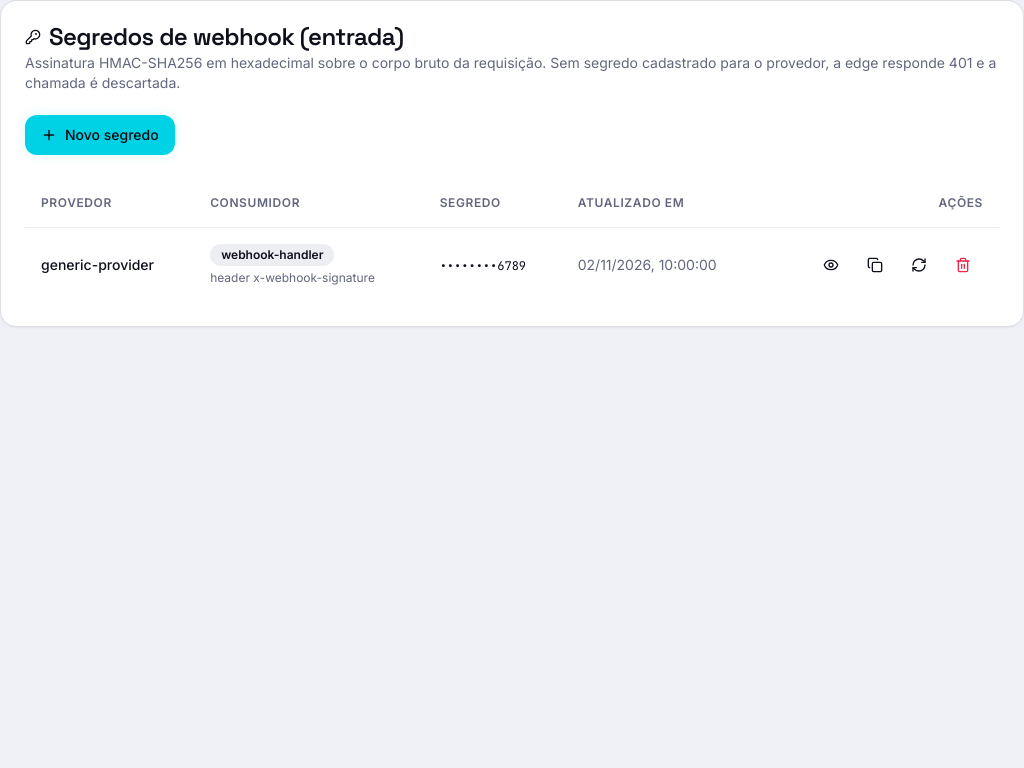
it: WebhookSecretsCard › exclui somente depois da confirmacao
Later steps or results of the test are not shown.
What coordinates should you click on to do the following:
click the button named "Excluir segredo de generic-provider"
I would click on:
 (963, 264)
Its box is x1=943 y1=244 x2=983 y2=284.
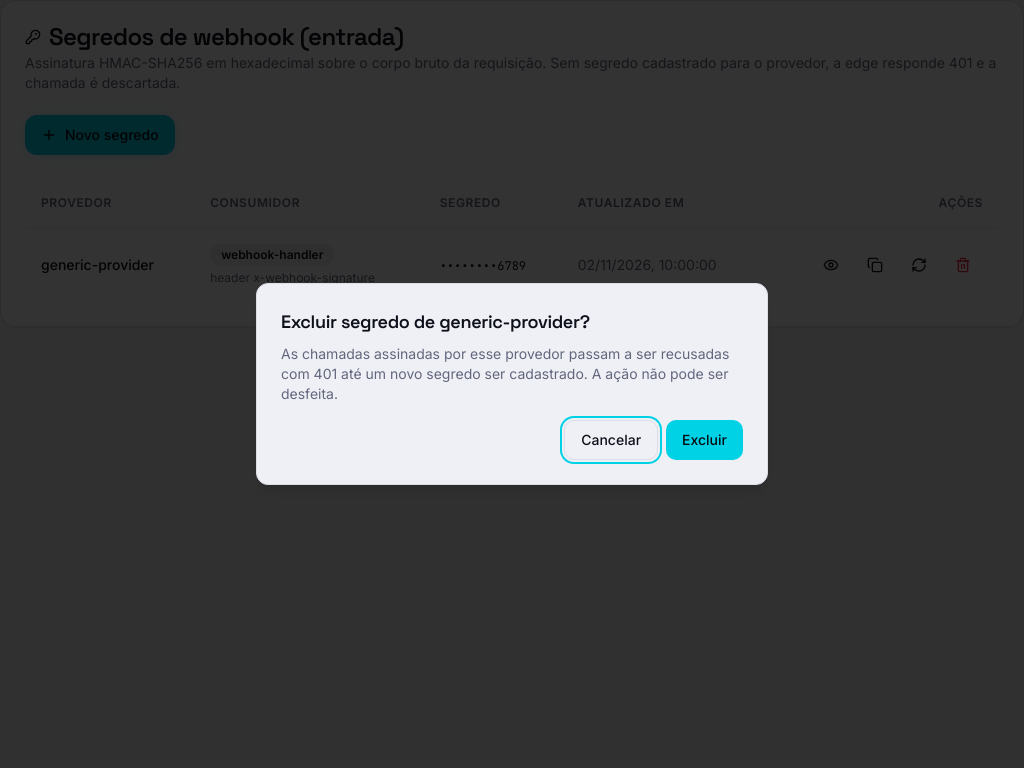
Check: the heading "Excluir segredo de generic-provider?" is shown, box x1=281 y1=310 x2=590 y2=333
